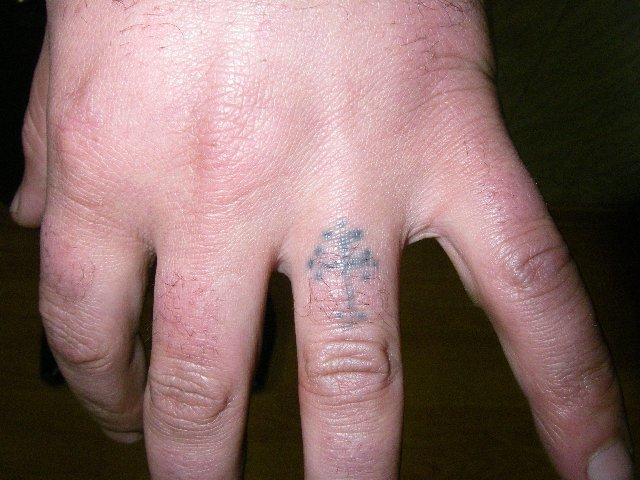tatu9_krest: (308, 213, 387, 321)
